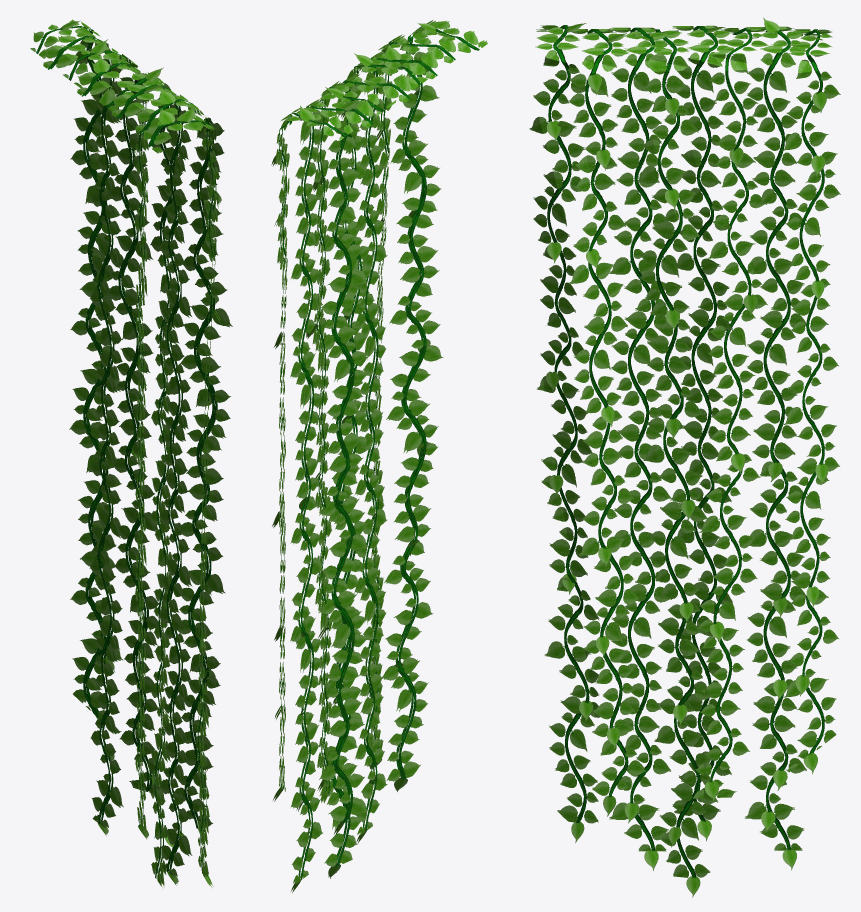
Rendered from VinesWideLong.fbx.
3 renders of one model, left to right at view 1: azimuth 30°, elevation 25°; view 2: azimuth 150°, elevation 25°; view 3: azimuth 270°, elevation 25°, orthographic. The views are drawn at different scales.
Visible parts, largest first — view 1: Plane#2, Plane.001#2; view 2: Plane#2, Plane.001#2; view 3: Plane#2, Plane.001#2.
Part boxes in pixels (x1,y1,x2,y2): Plane#2: [30, 19, 232, 886]; Plane.001#2: [59, 20, 221, 889]; Plane#2: [275, 20, 487, 883]; Plane.001#2: [271, 23, 451, 893]; Plane#2: [529, 25, 840, 877]; Plane.001#2: [546, 17, 828, 897].
Size of the model in its own units: 0.727 by 6.21 by 2.15.
2 materials, 2 textured.
